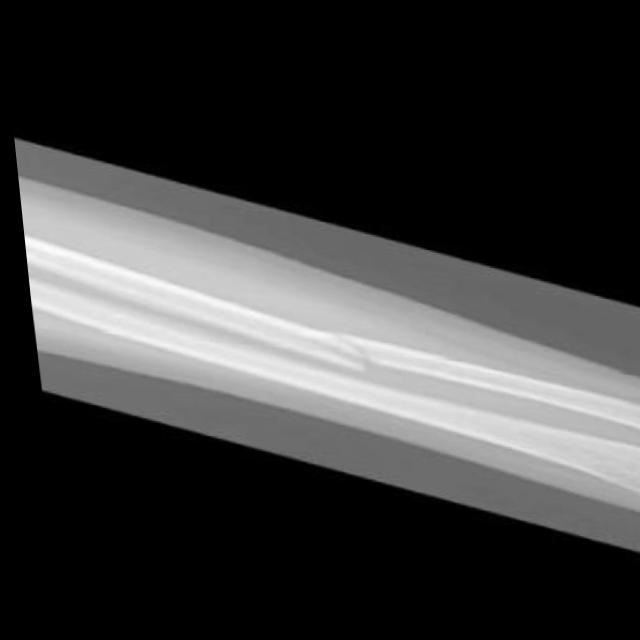fracture: (289, 313, 401, 374)
